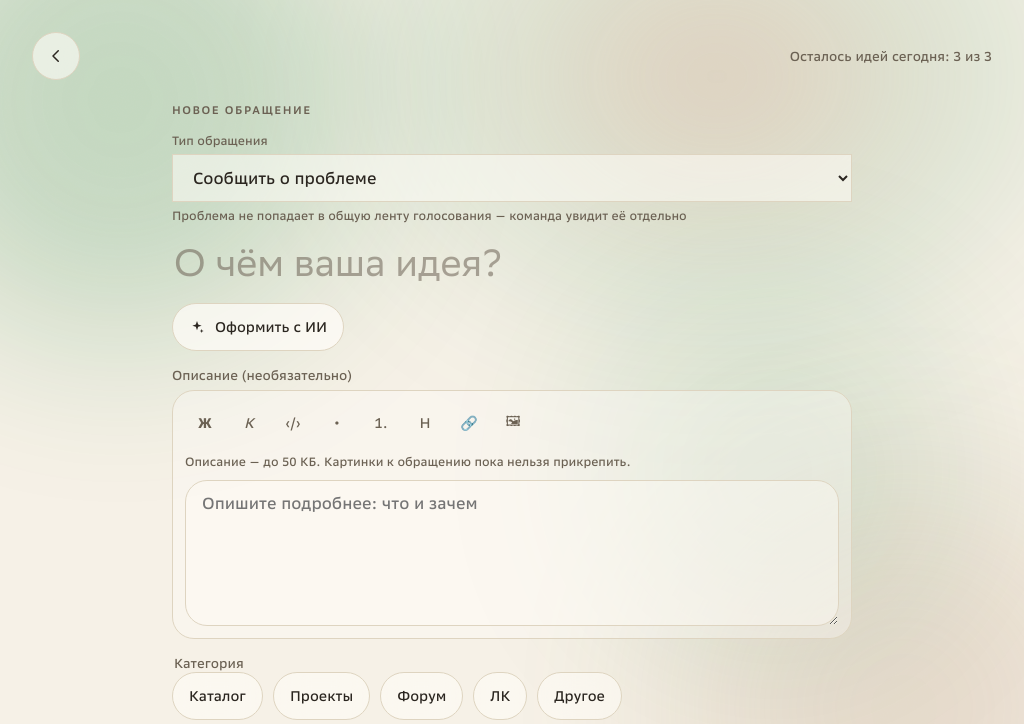
Test case: IdeaSubmitScreen — контекст-предзаполнение (MF-694, docs/design/feedback.entrypoints.md §3/§4) › дропдаун переключает тип обратно на «Идея»
Select "Сообщить об идее" in the dropdown labelled "Тип обращения" at (512, 178), box [172,154,852,202]
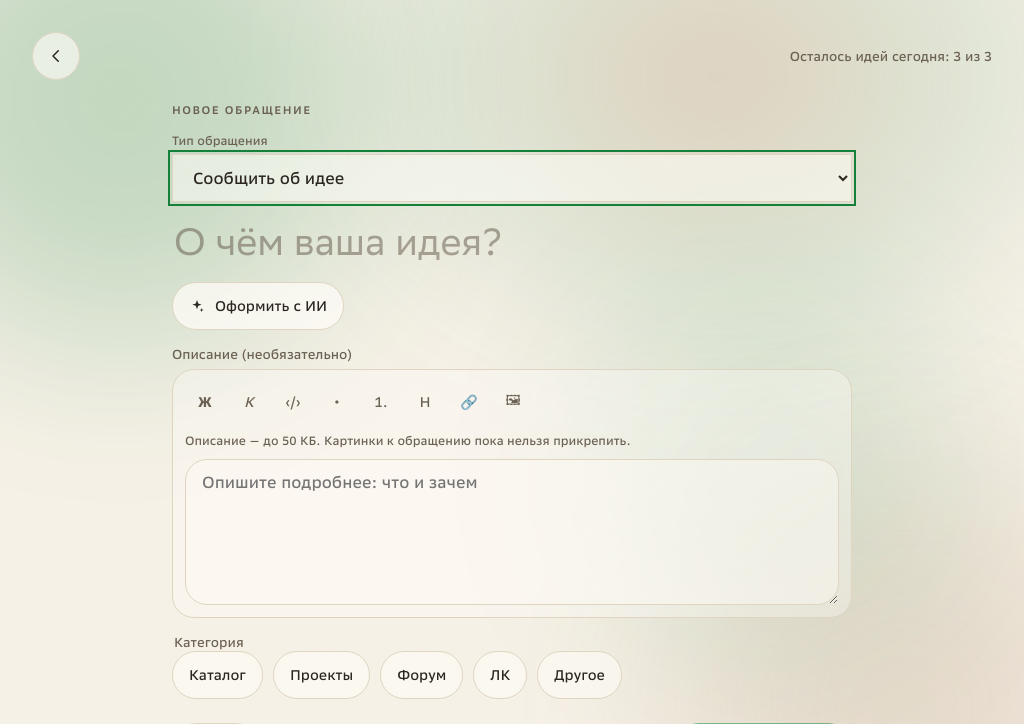
Now the text "не попадает в общую ленту голосования" is gone
